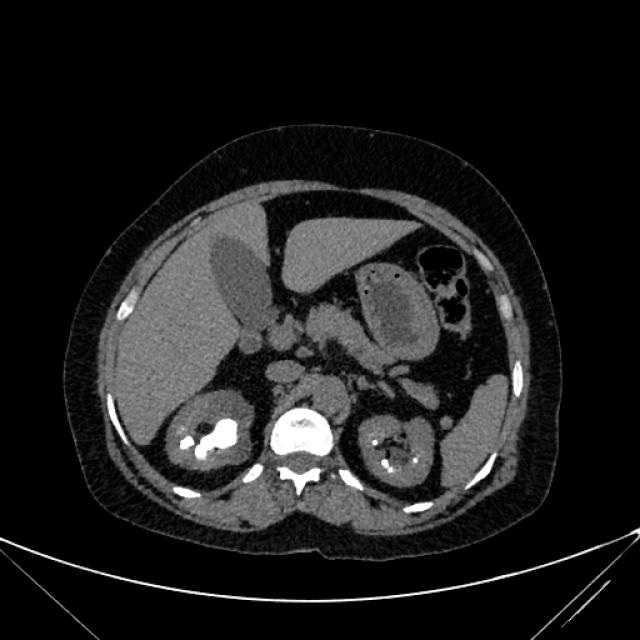kidney: (179, 402, 255, 470), (362, 418, 432, 484)
stone: (198, 424, 234, 454), (181, 436, 192, 450), (382, 459, 393, 472), (413, 458, 418, 463), (373, 440, 377, 446)
